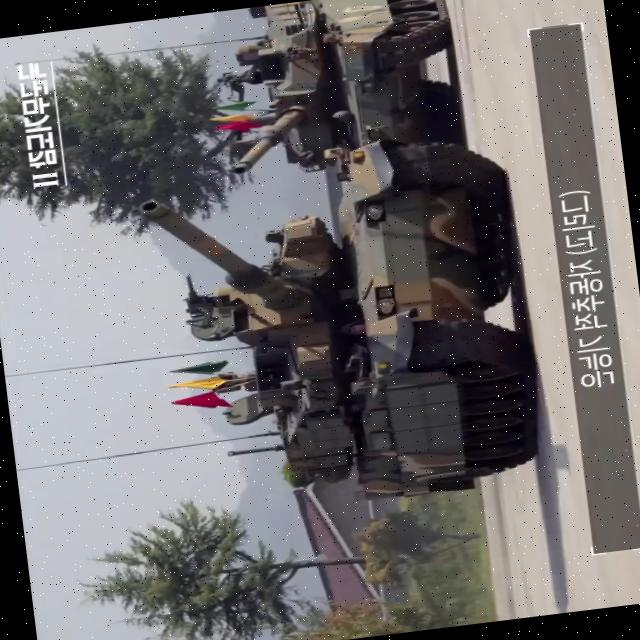korea tank: (120, 119, 550, 526)
